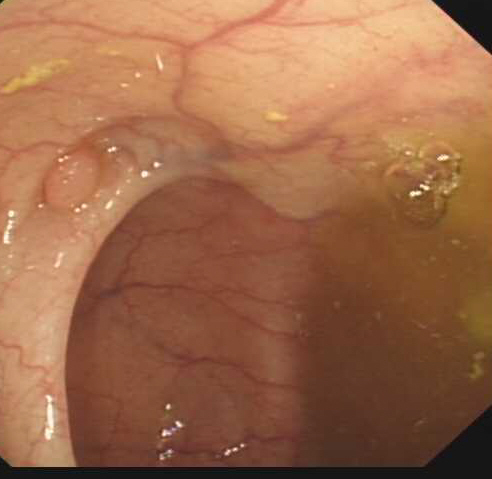adenoma: (38, 146, 102, 211)
